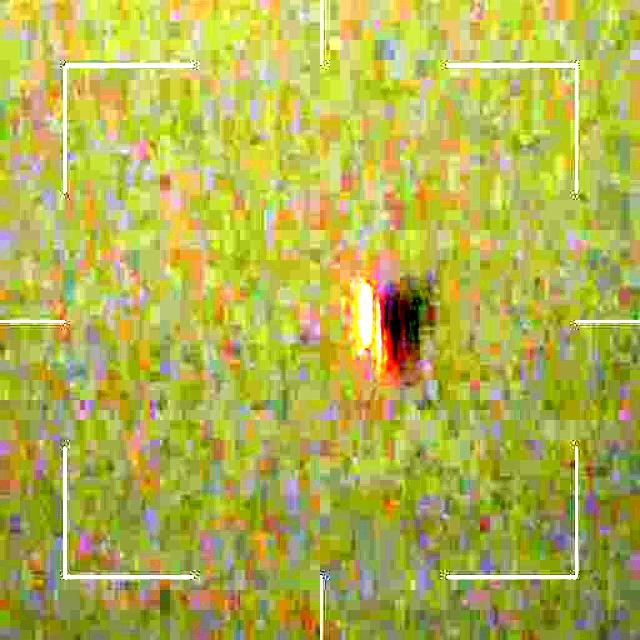bird: (346, 274, 442, 372)
